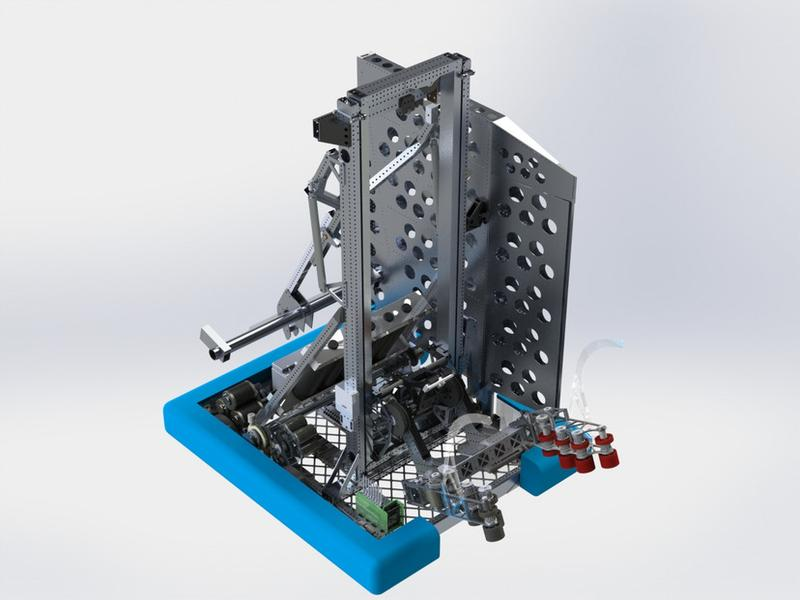robot: (165, 51, 617, 590)
